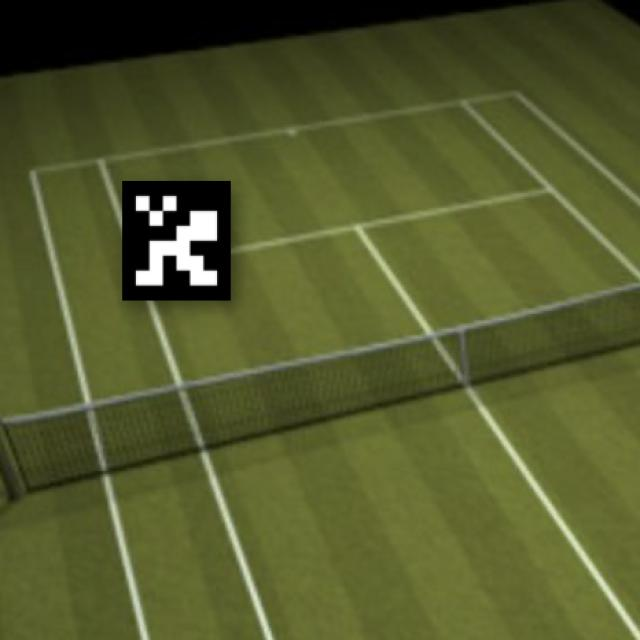marker: (109, 172, 250, 309)
